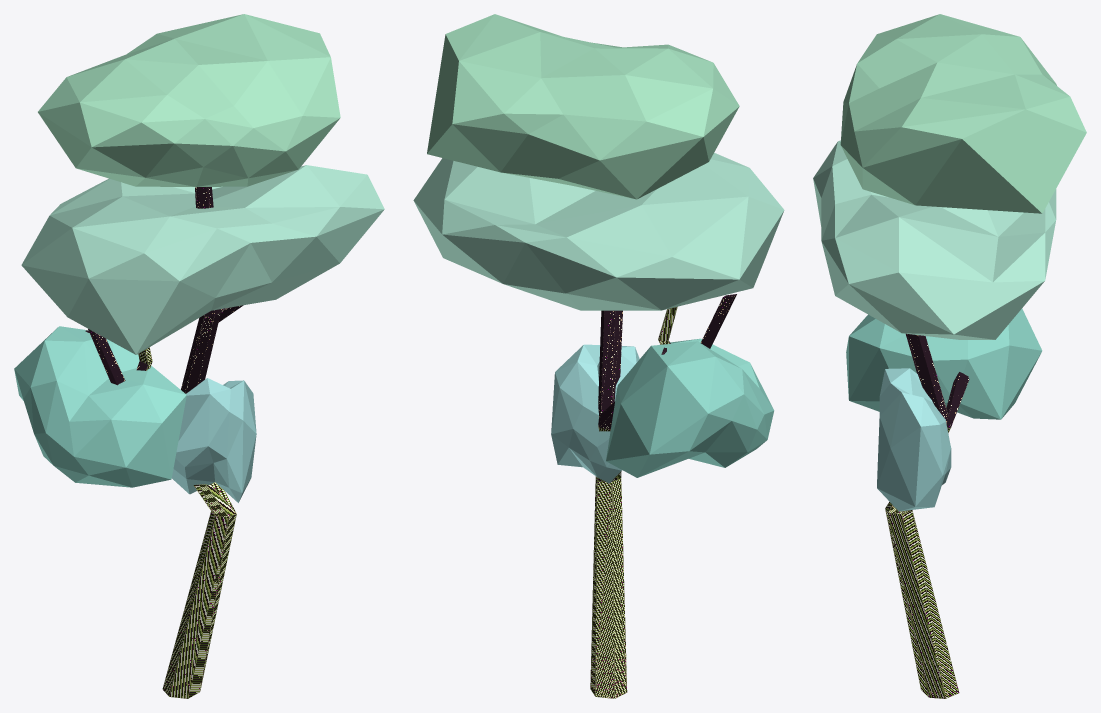
The model's file is LPTree_Tree_Type3_05_Model_balanced_instanced_l1_superhigh.glb.
3 views of the same model, side by side, from view 1: azimuth 30°, elevation 25°; view 2: azimuth 150°, elevation 25°; view 3: azimuth 270°, elevation 25° (orthographic). The views are drawn at different scales.
Parts seen in each view (by area): view 1: Tree Type3 05 Model; view 2: Tree Type3 05 Model; view 3: Tree Type3 05 Model.
Boxes of the visible parts, <box> form: Tree Type3 05 Model: <box>14,14,384,698</box>; Tree Type3 05 Model: <box>413,14,784,698</box>; Tree Type3 05 Model: <box>813,14,1086,698</box>.
Bounding box in the file's own units: 3.48 × 6.29 × 2.44.
5 materials, 1 textured.
